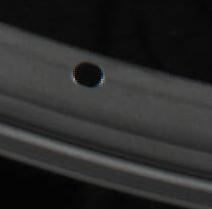holes: (72, 59, 105, 88)
